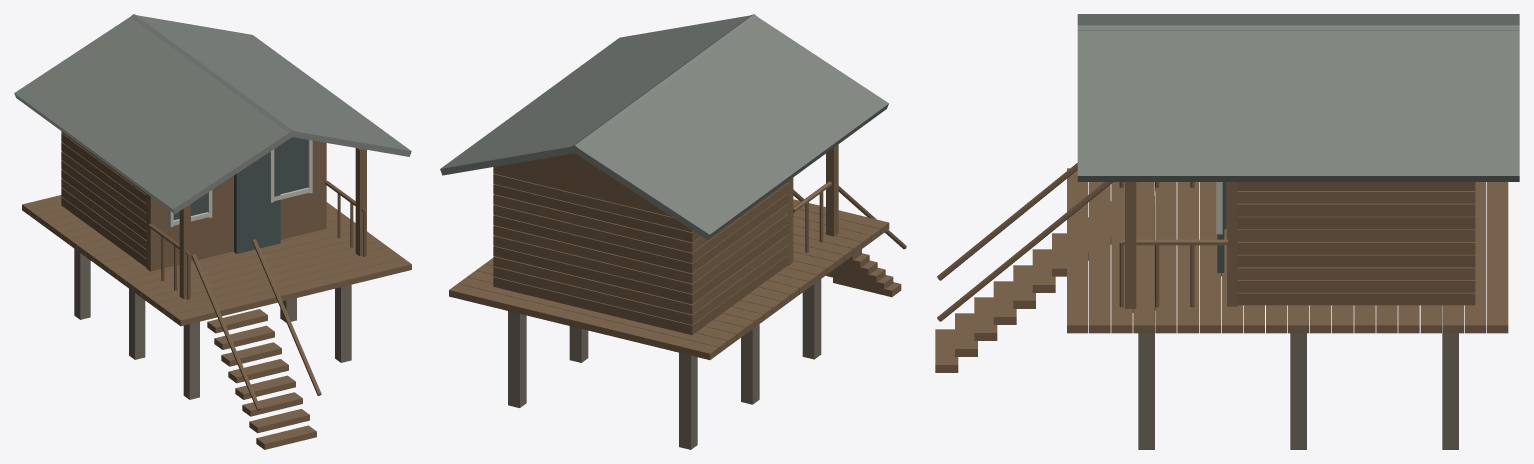
Rendered from thai_hut.glb.
The picture shows the model from 3 angles, left to right: view 1: azimuth 30°, elevation 25°; view 2: azimuth 150°, elevation 25°; view 3: azimuth 270°, elevation 25°; orthographic projection. The views are drawn at different scales.
Parts seen in each view (by area): view 1: thai_hut; view 2: thai_hut; view 3: thai_hut.
Boxes of the visible parts, <box> form: thai_hut: <box>14,14,411,449</box>; thai_hut: <box>440,14,906,449</box>; thai_hut: <box>935,14,1519,449</box>.
Bounding box in the file's own units: 4.34 × 4.62 × 6.61.
